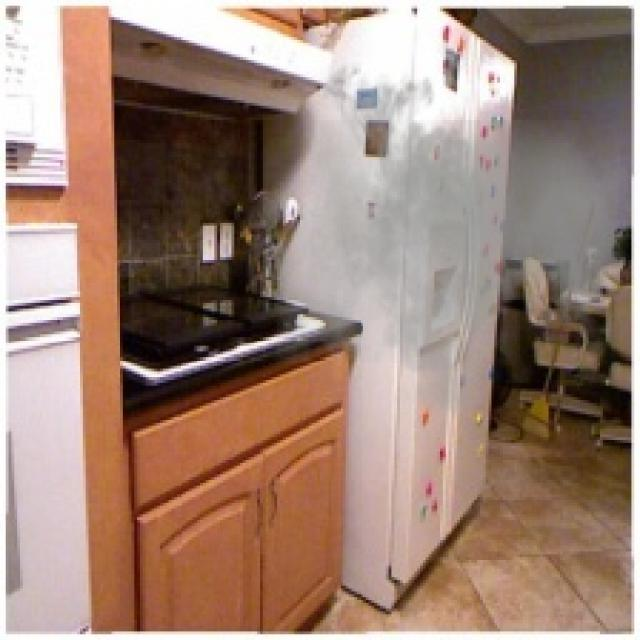smoke: (274, 51, 629, 432)
